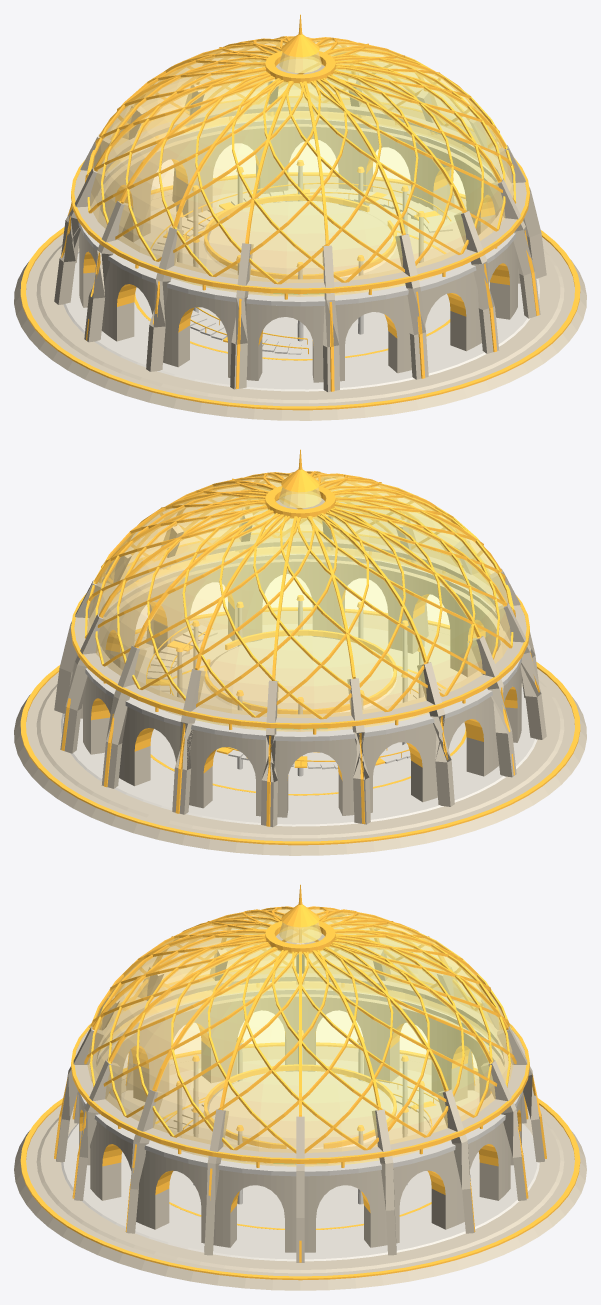
File: bayt_dome.glb
The picture shows the model from 3 angles, top to bottom: view 1: azimuth 30°, elevation 25°; view 2: azimuth 150°, elevation 25°; view 3: azimuth 270°, elevation 25°; orthographic projection.
Parts seen in each view (by area): view 1: BaytAlHikmaDome; view 2: BaytAlHikmaDome; view 3: BaytAlHikmaDome.
Part boxes in pixels (<box>): BaytAlHikmaDome: <box>14,14,586,420</box>; BaytAlHikmaDome: <box>14,449,586,855</box>; BaytAlHikmaDome: <box>14,884,586,1290</box>.
Bounding box in the file's own units: 86.4 × 47.49 × 86.4.
